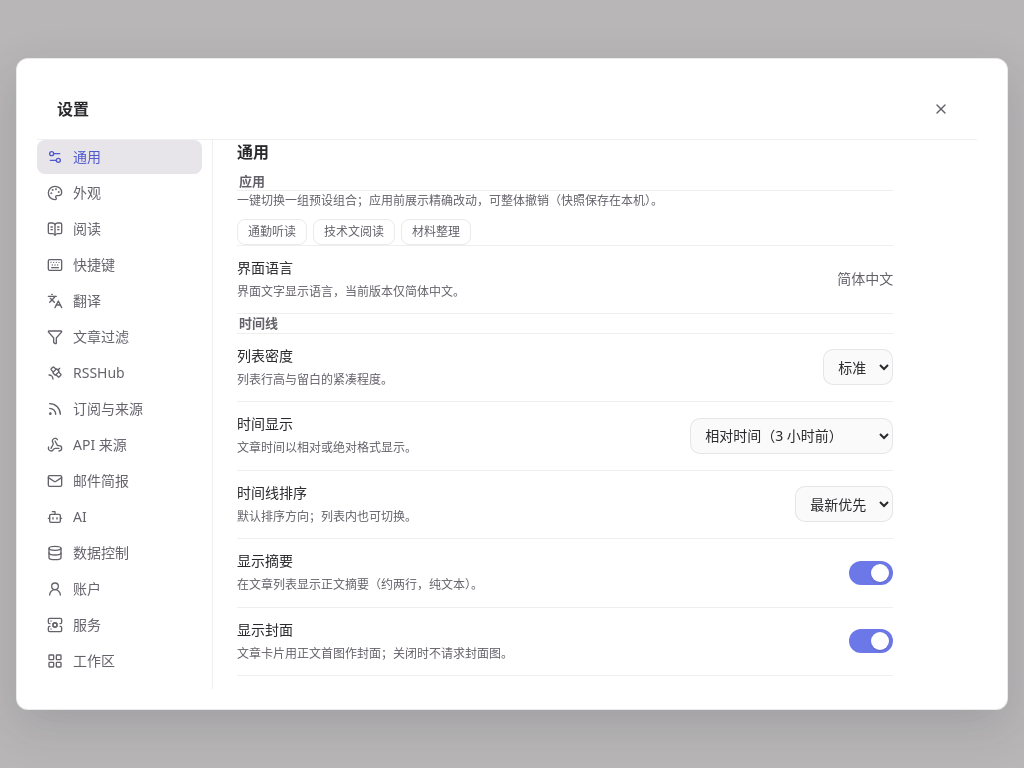
Test case: 0014a Gate 3 — Service settings truthfulness › 数据控制包含真实备份 UI；独立「备份与恢复」分类已并入
Click the button "数据控制". click: (120, 553)
box: [37,536,202,570]
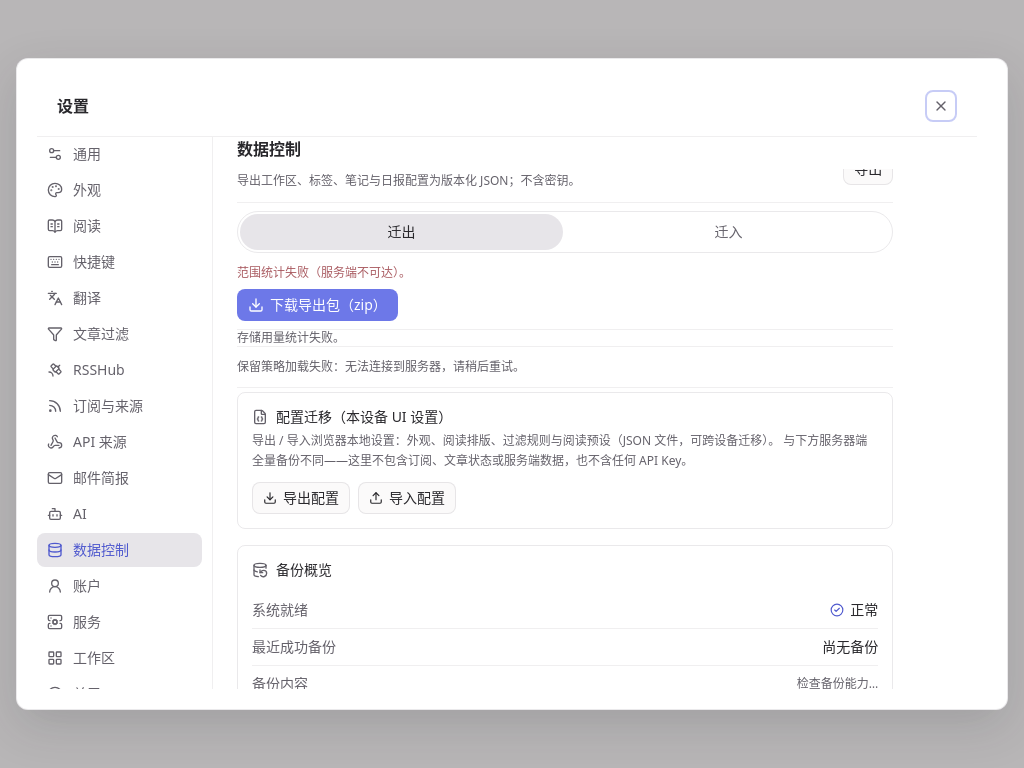
Result: the heading "备份概览" is shown at [276,560,332,580]
Result: the heading "配置迁移（本设备 UI 设置）" is shown at [276,407,452,427]
